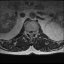CCS_normal: (30, 29, 32, 37)
LFS_normal: (34, 29, 36, 35)
LLS_normal: (32, 29, 34, 36)
RFS_normal: (26, 29, 28, 35)
RLS_normal: (28, 29, 30, 36)
